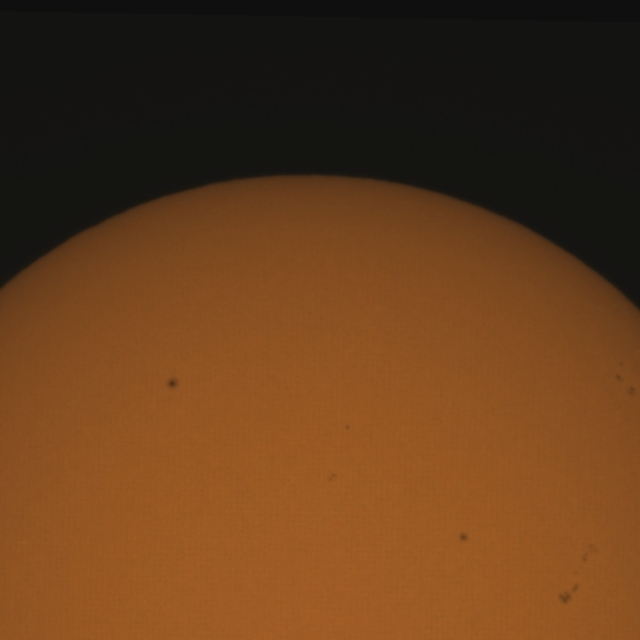sunspot: (614, 365, 637, 398), (556, 582, 580, 606), (580, 543, 595, 567), (614, 362, 627, 387), (166, 377, 179, 391), (626, 384, 638, 399), (326, 472, 338, 484), (458, 531, 469, 543), (344, 423, 351, 431)
